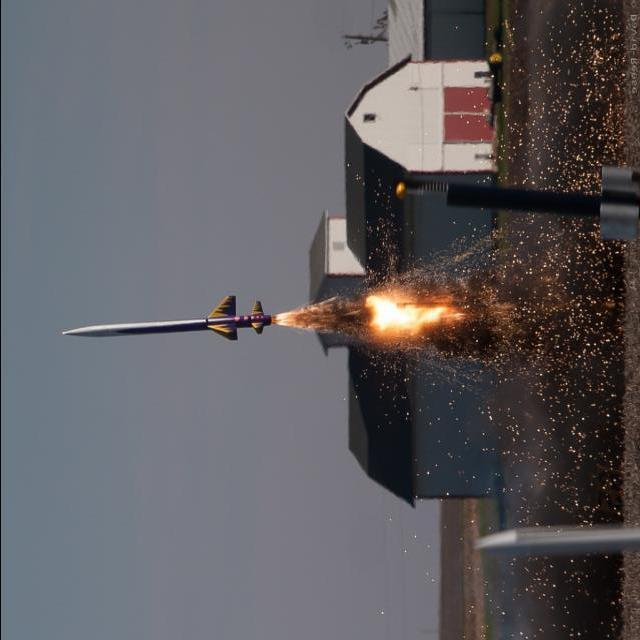missile: (31, 290, 440, 353)
